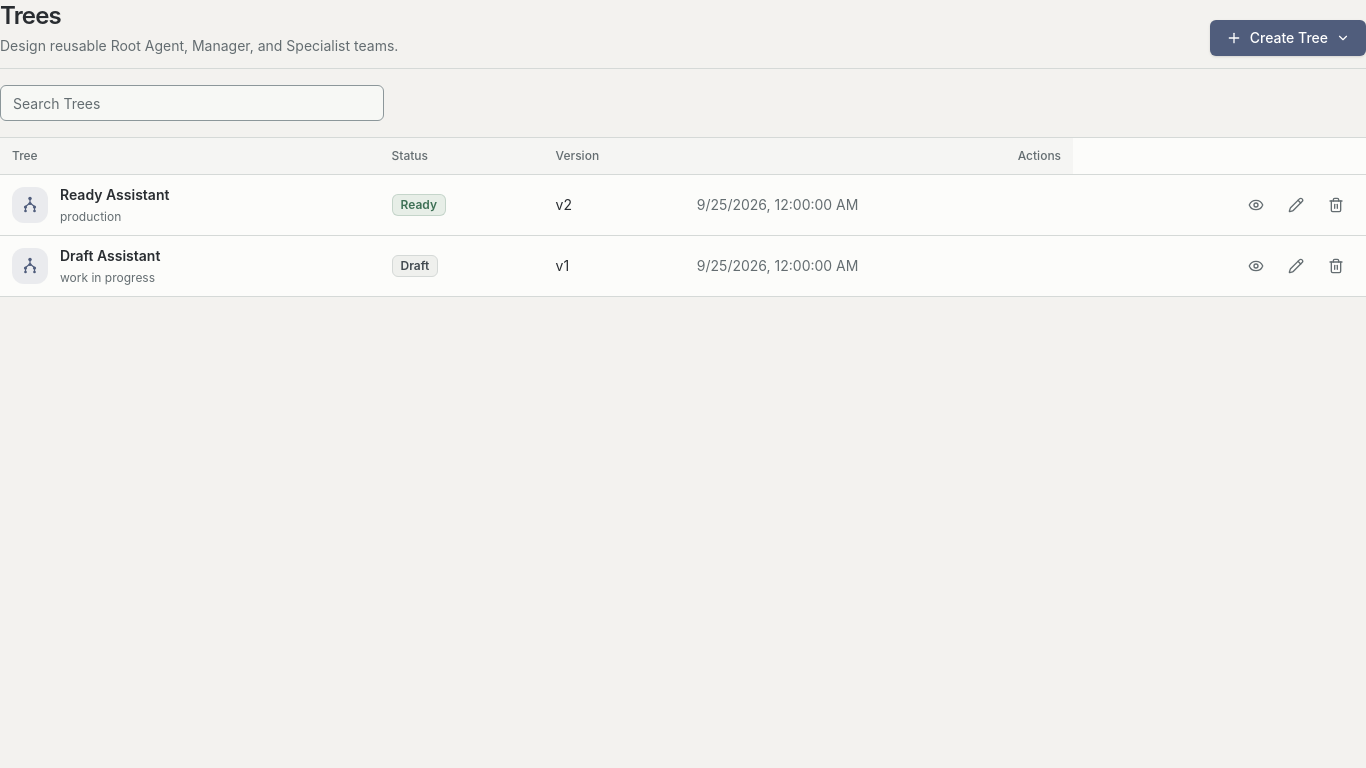
Scenario: Tree list › deletes only the confirmed Tree and retains other rows
What coordinates should you click on to do the following:
click the button named "Delete" in the row of "Ready Assistant"
I would click on:
 (1336, 204)
Its box is x1=1318 y1=186 x2=1354 y2=222.
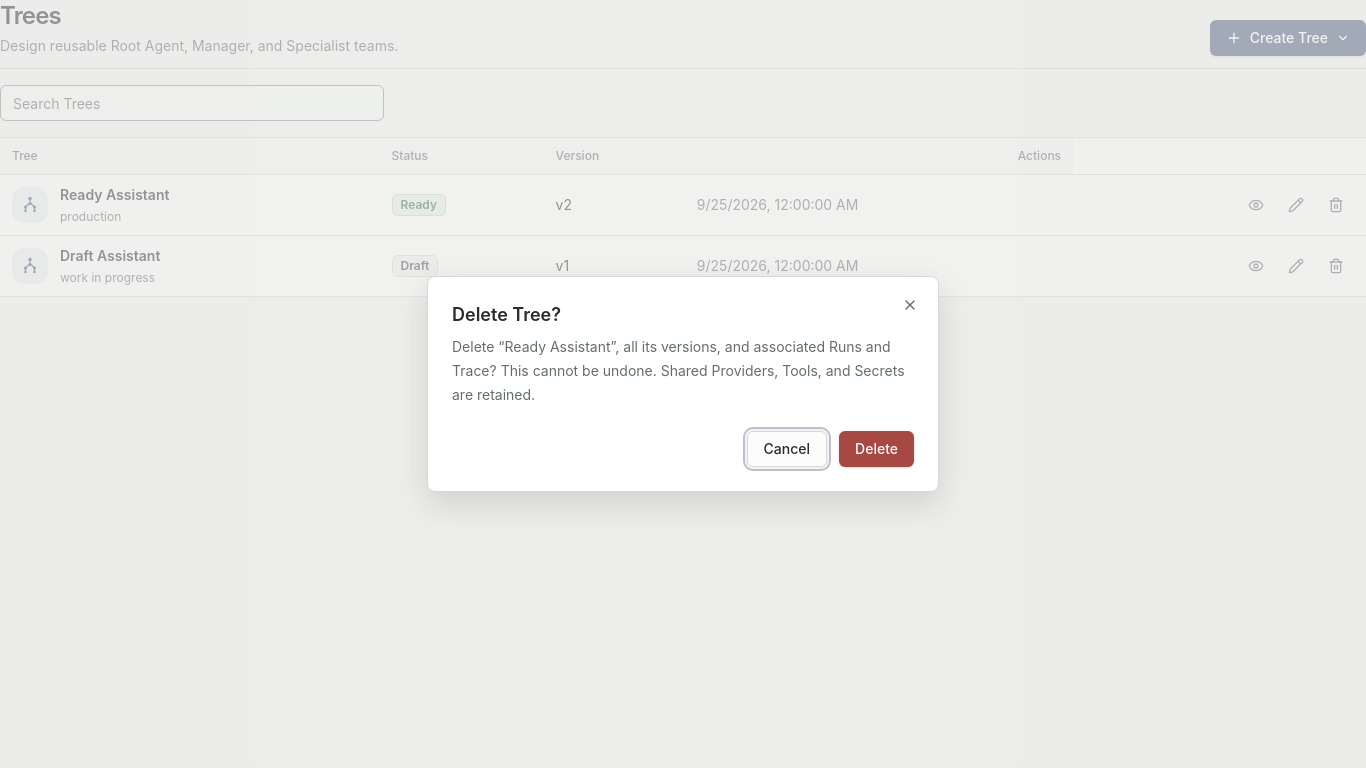
What coordinates should you click on to do the following:
click the button "Delete"
I would click on:
 (877, 449)
Its box is x1=839 y1=431 x2=914 y2=467.
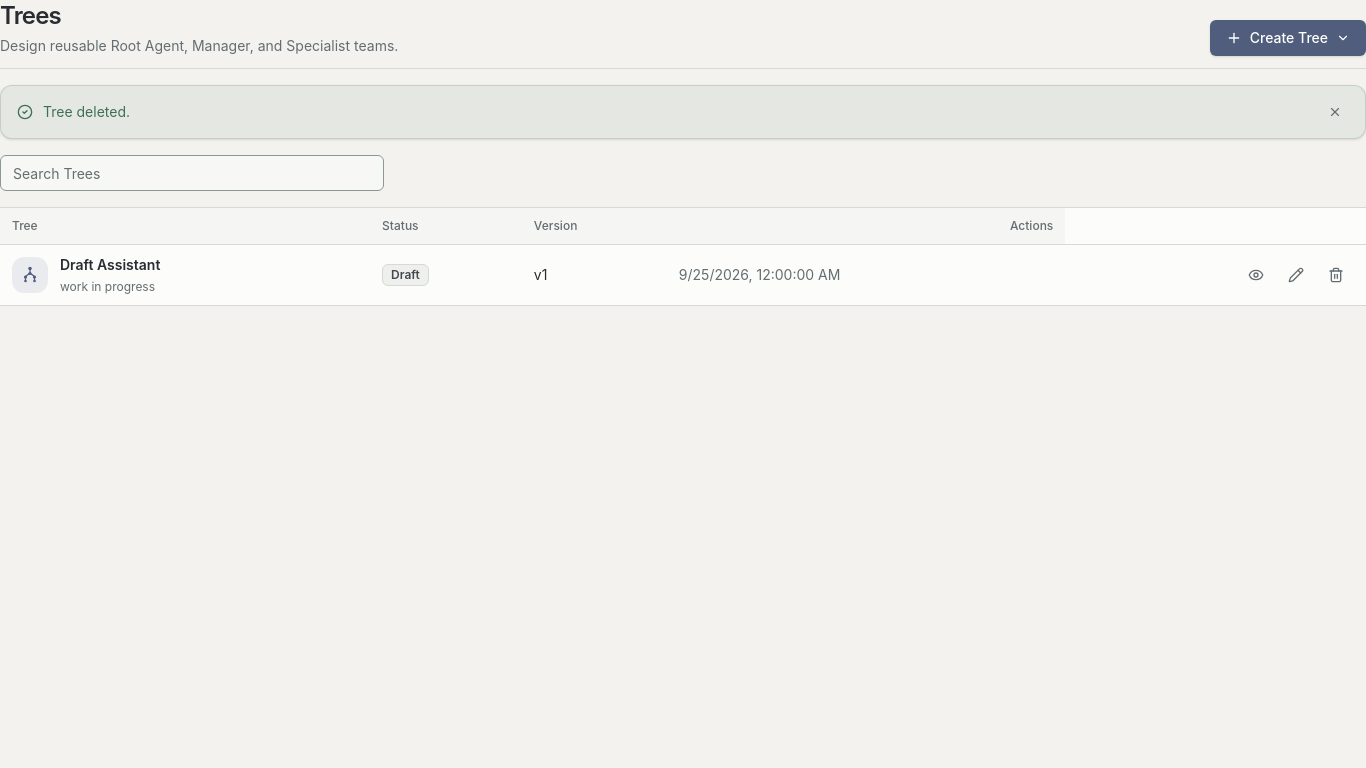
expect the text "Draft Assistant" is shown: met, box x1=60 y1=254 x2=160 y2=274
expect the text "Ready Assistant" is gone: met
